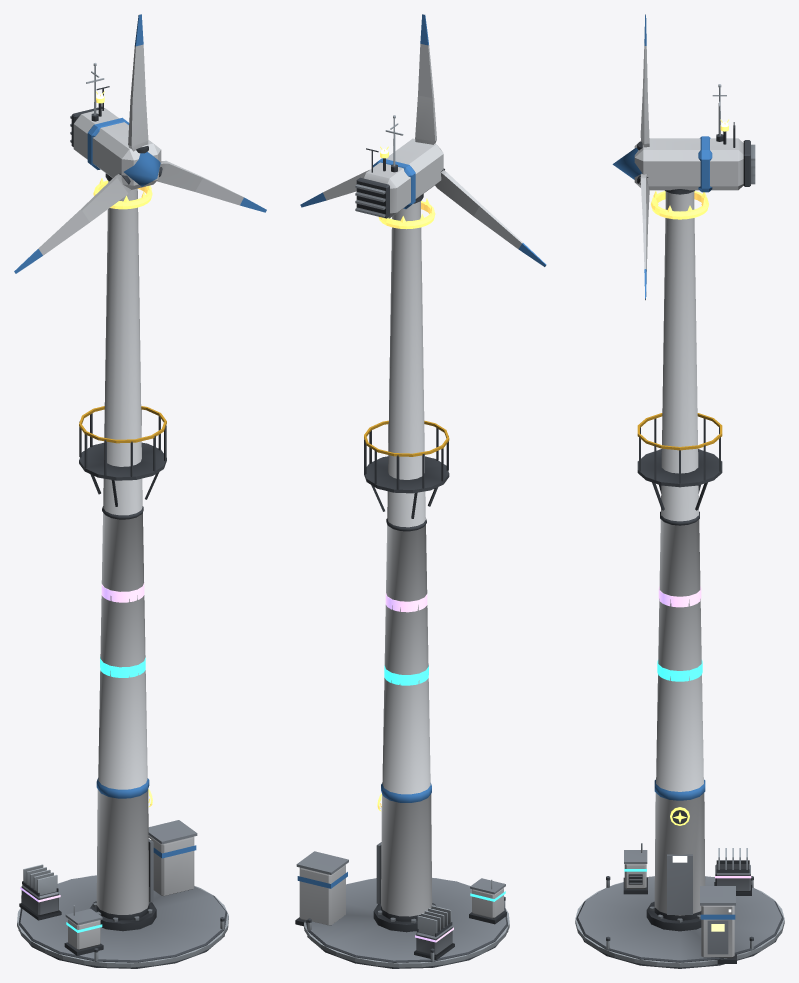
The model's file is wind_turbine_xl.glb.
The picture shows the model from 3 angles, left to right: view 1: azimuth 30°, elevation 25°; view 2: azimuth 150°, elevation 25°; view 3: azimuth 270°, elevation 25°; orthographic projection. The views are drawn at different scales.
Visible parts, largest first — view 1: Base, Rotor, L4, L3, L2, L5; view 2: Base, Rotor, L4, L3, L2, L5; view 3: Base, Rotor, L2, L4, L3, L5.
Part boxes in pixels (x1,y1,x2,y2): Base: (18, 86, 227, 968); Rotor: (14, 14, 266, 273); L4: (19, 582, 144, 920); L3: (64, 657, 145, 955); L2: (17, 63, 228, 967); L5: (93, 91, 152, 807); Base: (295, 138, 508, 968); Rotor: (300, 14, 546, 266); L4: (385, 593, 454, 960); L3: (384, 665, 506, 924); L2: (304, 115, 509, 967); L5: (377, 146, 435, 811); Base: (576, 122, 783, 968); Rotor: (612, 14, 649, 300); L2: (575, 84, 784, 967); L4: (658, 586, 751, 895); L3: (623, 660, 702, 894); L5: (651, 119, 728, 825).
Size of the model in its own units: 6.36 by 22.21 by 4.63.
